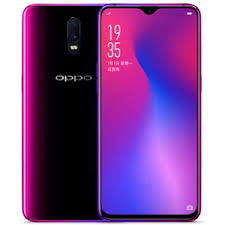oppo: (95, 1, 202, 225), (20, 1, 103, 223)
